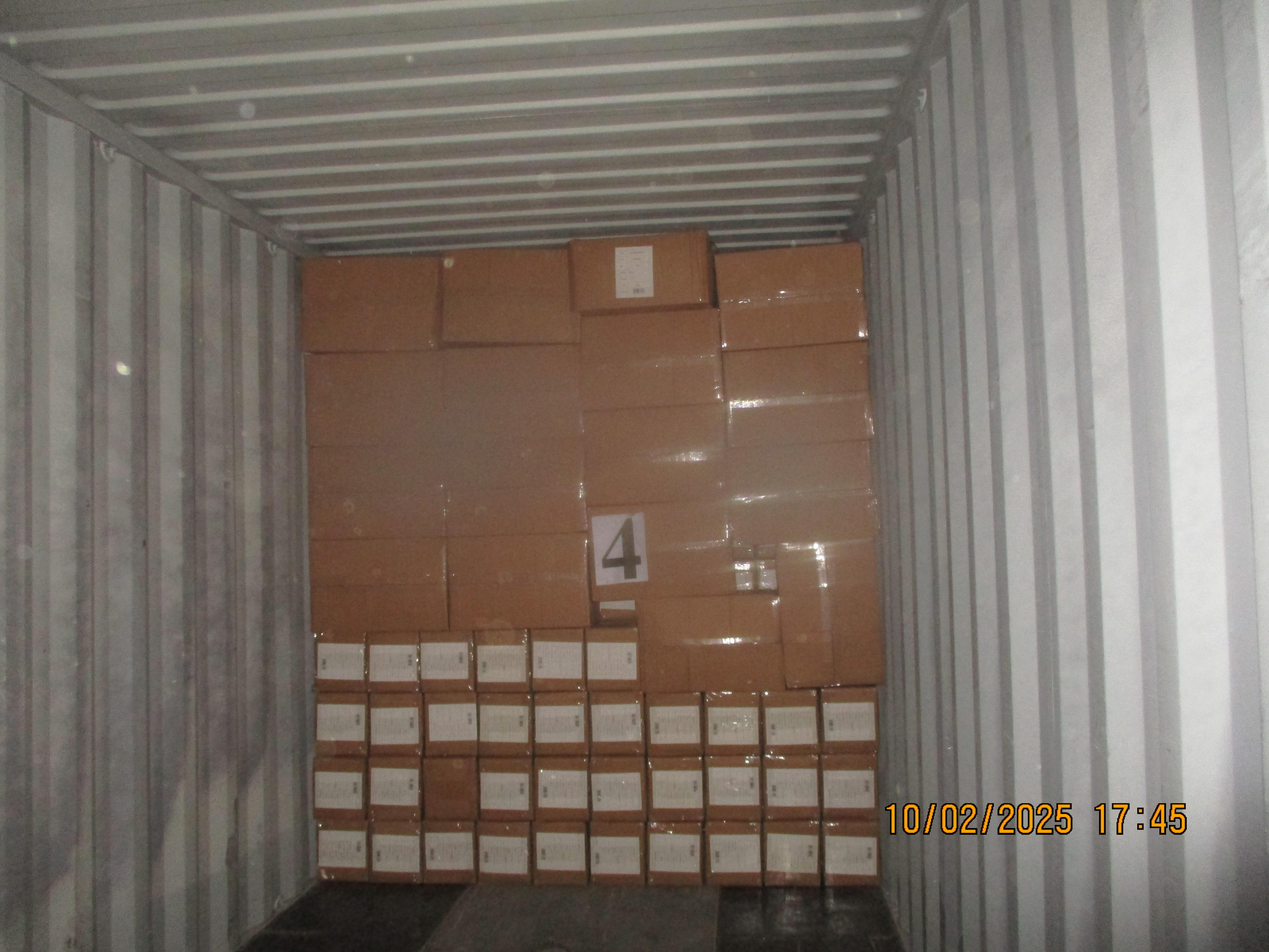carton: (721, 341, 877, 449), (715, 240, 868, 350), (777, 540, 886, 688), (724, 437, 876, 542), (636, 593, 787, 693), (588, 500, 736, 601), (583, 403, 726, 505), (579, 307, 723, 408), (299, 253, 441, 352), (442, 438, 586, 535), (447, 533, 590, 630), (440, 246, 579, 345), (440, 344, 581, 440), (303, 351, 443, 447), (311, 537, 448, 632), (307, 446, 445, 539), (568, 229, 716, 314), (819, 686, 878, 753), (821, 819, 880, 885), (761, 689, 819, 755), (820, 753, 878, 819), (762, 820, 820, 885), (704, 820, 762, 885), (762, 754, 820, 819), (704, 755, 762, 820), (702, 691, 760, 755), (589, 756, 646, 821), (647, 756, 704, 821), (533, 691, 590, 755), (585, 627, 642, 691), (533, 756, 589, 821), (531, 821, 588, 884), (646, 821, 702, 885), (646, 692, 702, 756), (589, 691, 645, 755), (589, 821, 645, 884), (474, 629, 530, 692), (422, 757, 478, 820), (530, 628, 586, 691), (478, 757, 533, 821), (424, 691, 478, 756), (418, 630, 474, 692), (368, 692, 423, 755), (478, 693, 533, 756), (367, 756, 421, 820), (476, 821, 531, 883), (422, 820, 476, 883), (315, 692, 368, 756), (368, 820, 422, 882), (366, 631, 420, 692), (313, 757, 366, 819), (317, 818, 369, 881), (314, 632, 365, 692)
